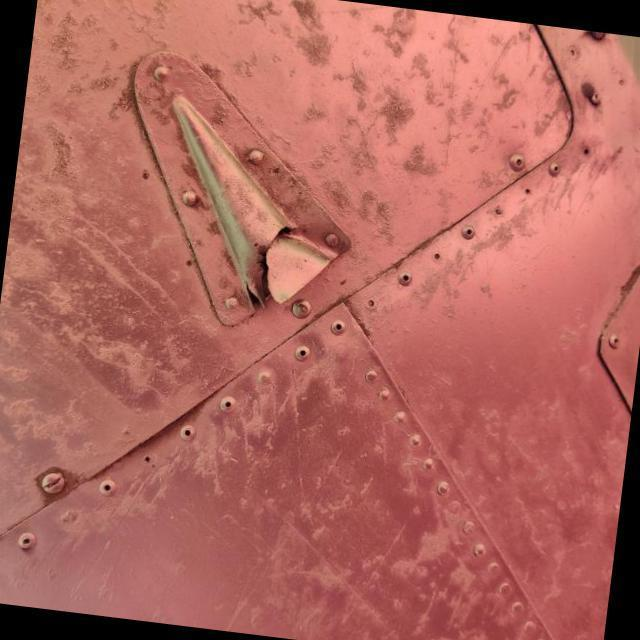Rupture: (208, 200, 318, 328)
